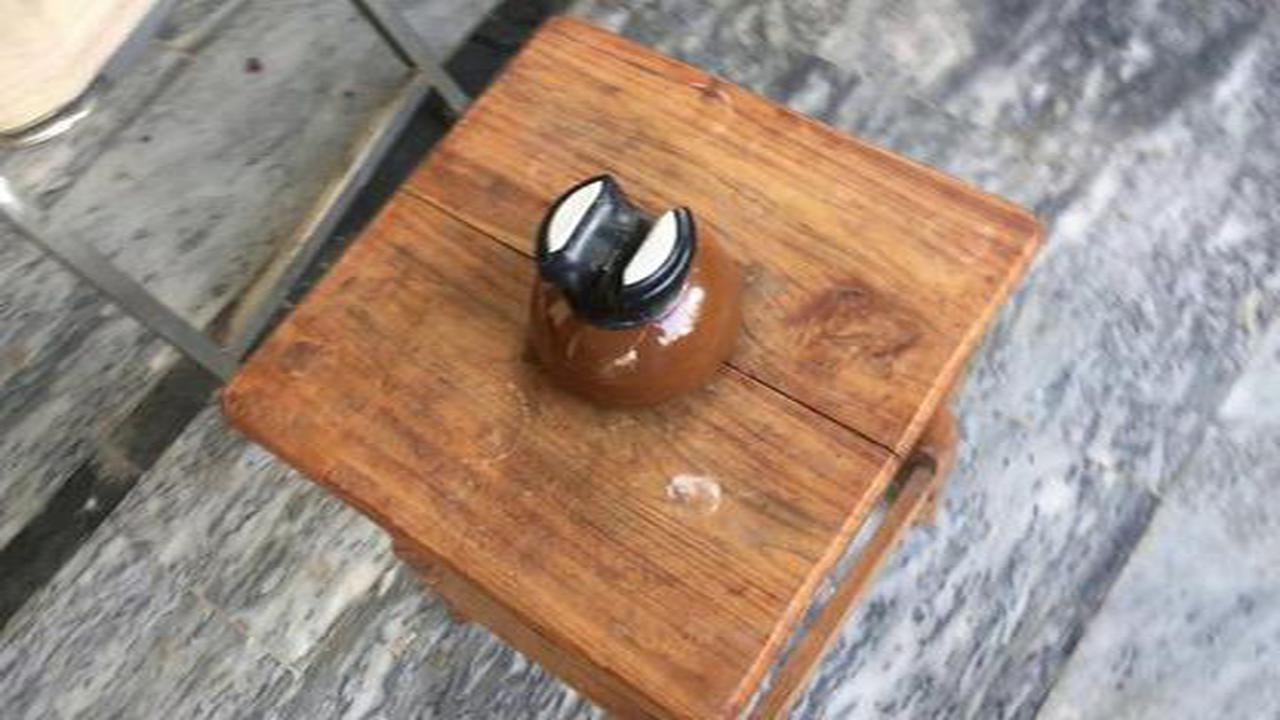insulator_pin: (502, 156, 770, 428)
